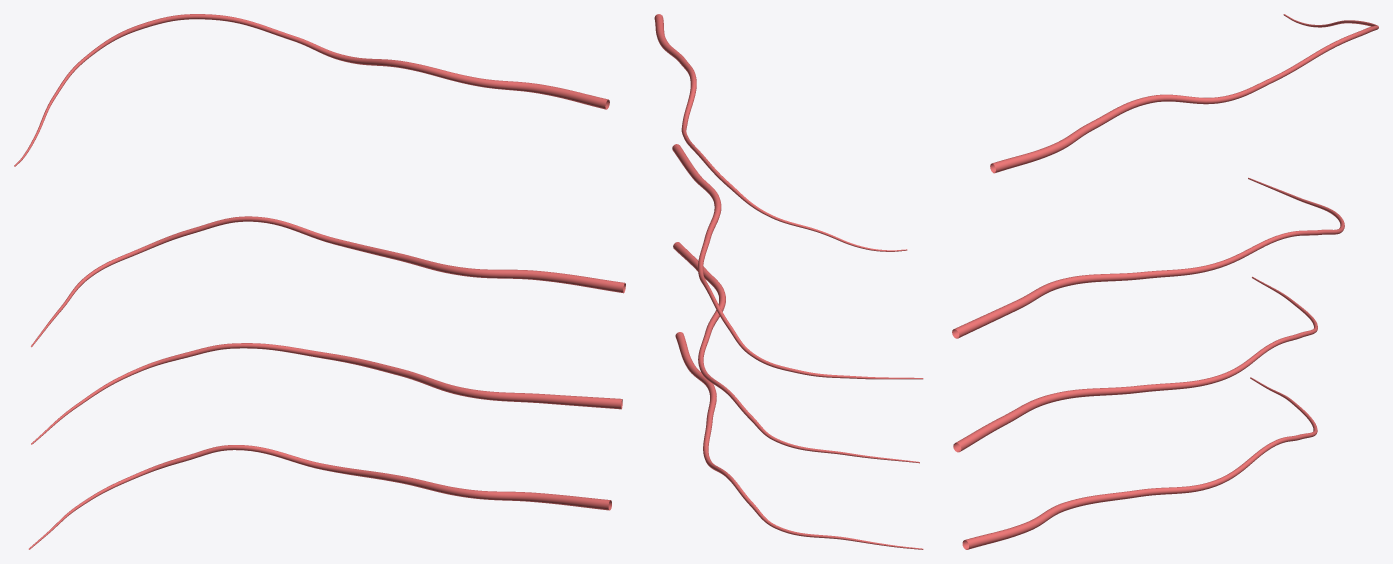
Rendered from Lumbar_arteries.r_BezierCurve.405.glb.
The picture shows the model from 3 angles, left to right: view 1: azimuth 30°, elevation 25°; view 2: azimuth 150°, elevation 25°; view 3: azimuth 270°, elevation 25°; orthographic projection. The views are drawn at different scales.
Visible parts, largest first — view 1: Lumbar_arteries.r_BezierCurve.405; view 2: Lumbar_arteries.r_BezierCurve.405; view 3: Lumbar_arteries.r_BezierCurve.405.
Boxes of the visible parts, box(x1,y1,x2,y2) form: Lumbar_arteries.r_BezierCurve.405: box(14, 14, 625, 549); Lumbar_arteries.r_BezierCurve.405: box(654, 14, 923, 549); Lumbar_arteries.r_BezierCurve.405: box(952, 14, 1378, 549).
Size of the model in its own units: 0.0993 by 0.0945 by 0.0825.
